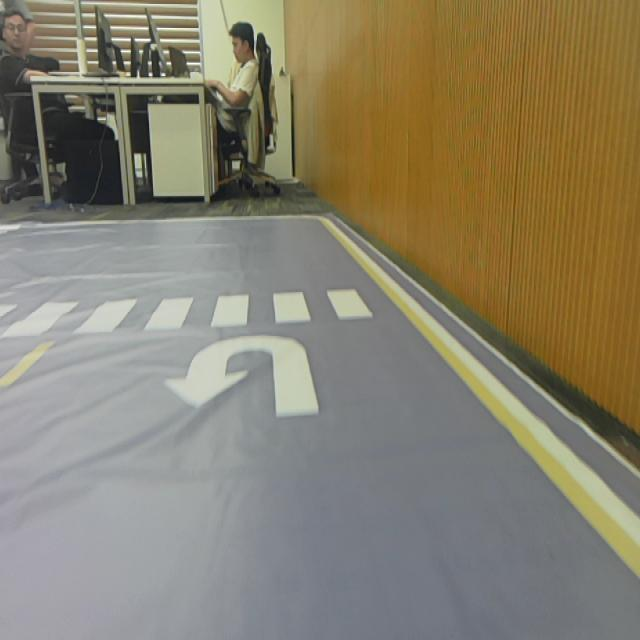left_lane: (0, 339, 58, 400)
right_lane: (320, 222, 640, 581)
